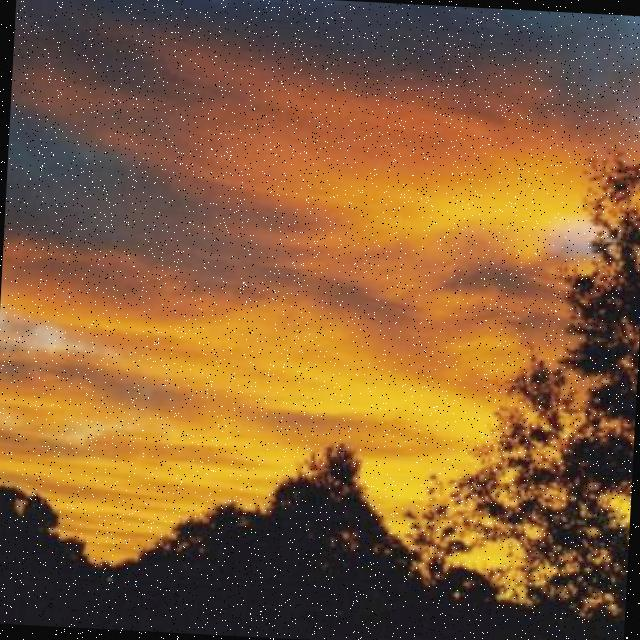As: (1, 36, 548, 382)
